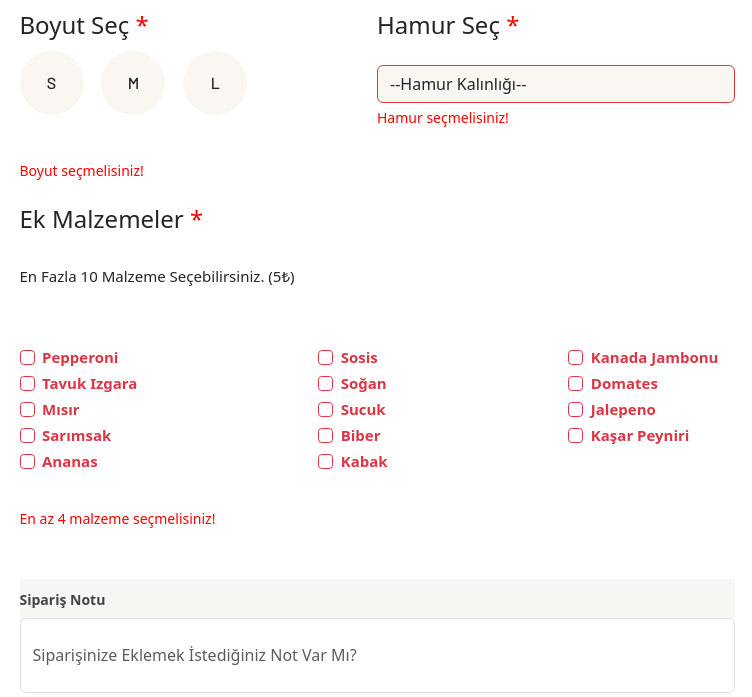
Scenario: Sipariş Oluştur Sayfası › Malzeme seçimi hata mesajı kaybolma
(page scrolled)
Expected: the text "En az 4 malzeme seçmelisiniz!" is shown, [20,509,215,528]
Check the checkbox labelled "Pepperoni". click: [28, 358]
box: [20,350,35,365]
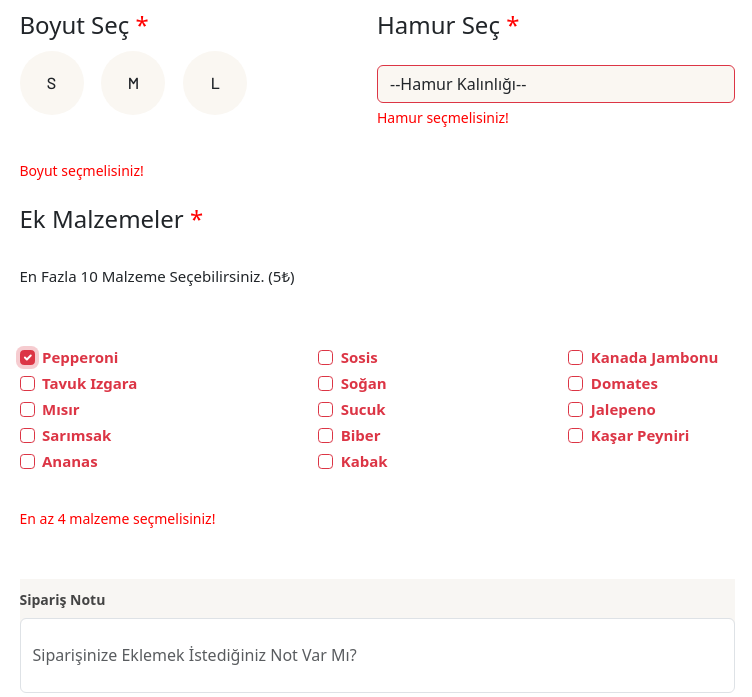
Check the checkbox labelled "Mısır". click: [28, 410]
box: [20,402,35,417]
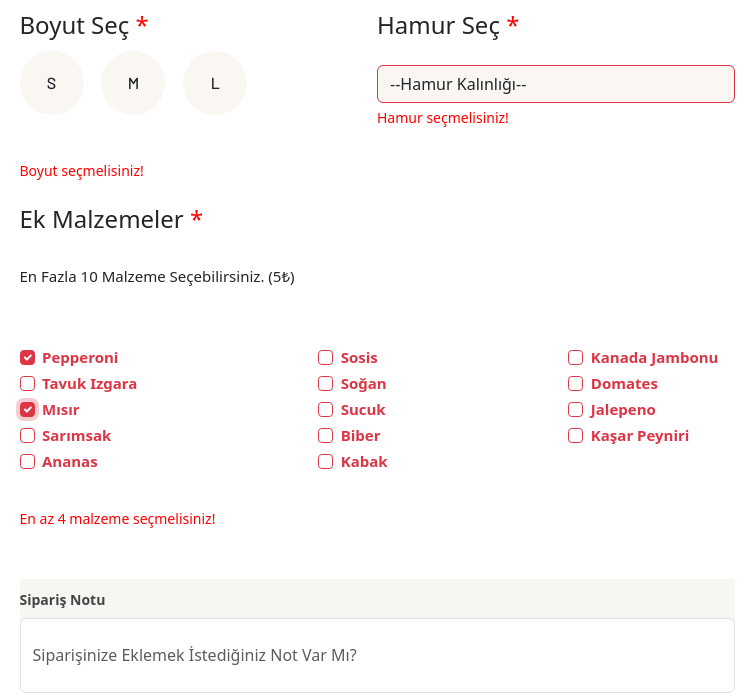
Check the checkbox labelled "Sucuk". click: [326, 410]
box: [318,402,333,417]
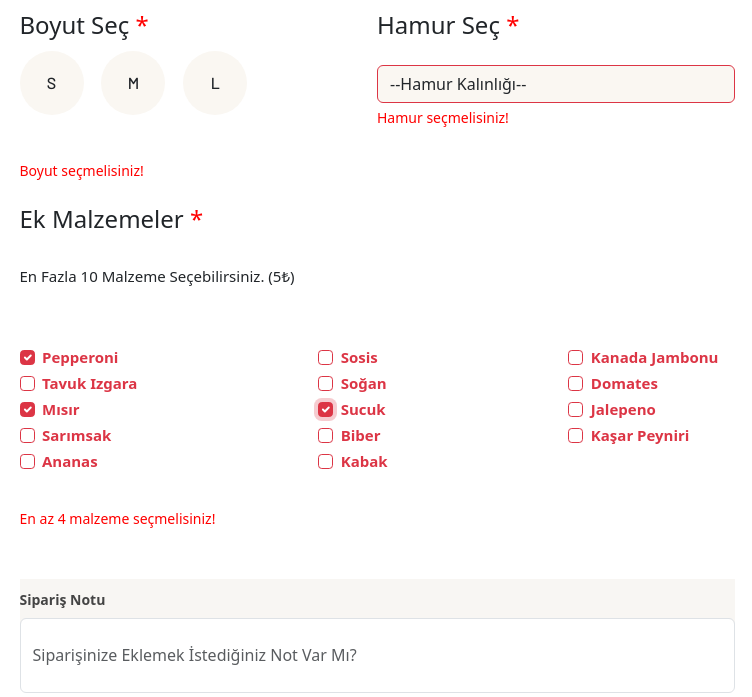
Check the checkbox labelled "Biber". click: [326, 436]
box: [318,428,333,443]
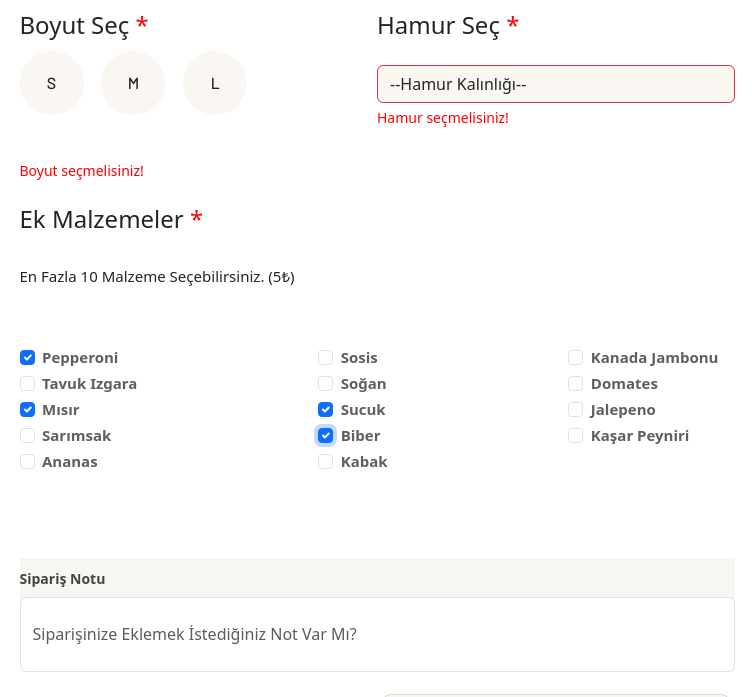
Expected: the text "En az 4 malzeme seçmelisiniz!" is gone
